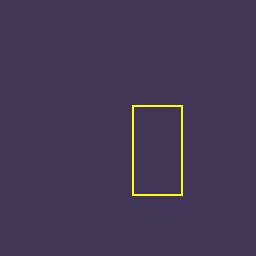Gloves: (132, 105, 182, 195)
